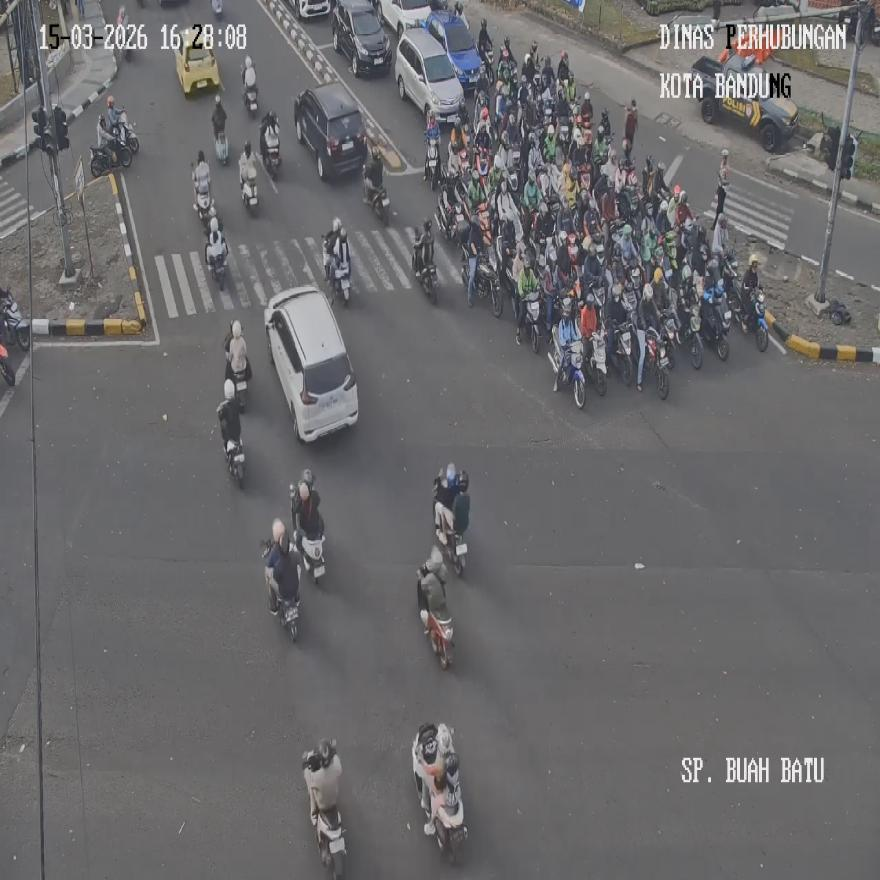Mobil: (264, 284, 360, 441), (396, 22, 464, 128), (294, 83, 366, 180), (332, 0, 392, 76)
Motor: (412, 722, 467, 866), (302, 738, 347, 878), (416, 562, 454, 669), (433, 468, 468, 576), (290, 482, 325, 584), (90, 111, 138, 176), (551, 331, 584, 408), (467, 250, 502, 318), (217, 398, 244, 486), (670, 298, 703, 369), (699, 288, 731, 360), (268, 568, 300, 640), (641, 325, 670, 400), (323, 232, 351, 306), (412, 226, 438, 304), (0, 291, 30, 352), (434, 182, 464, 243), (741, 286, 768, 351), (609, 319, 635, 386), (517, 287, 541, 352), (192, 165, 216, 230), (583, 330, 606, 396), (364, 172, 390, 226), (206, 220, 226, 290), (615, 163, 639, 221), (260, 116, 280, 177), (476, 40, 494, 90), (424, 138, 441, 188), (241, 166, 258, 215), (243, 80, 258, 118)
